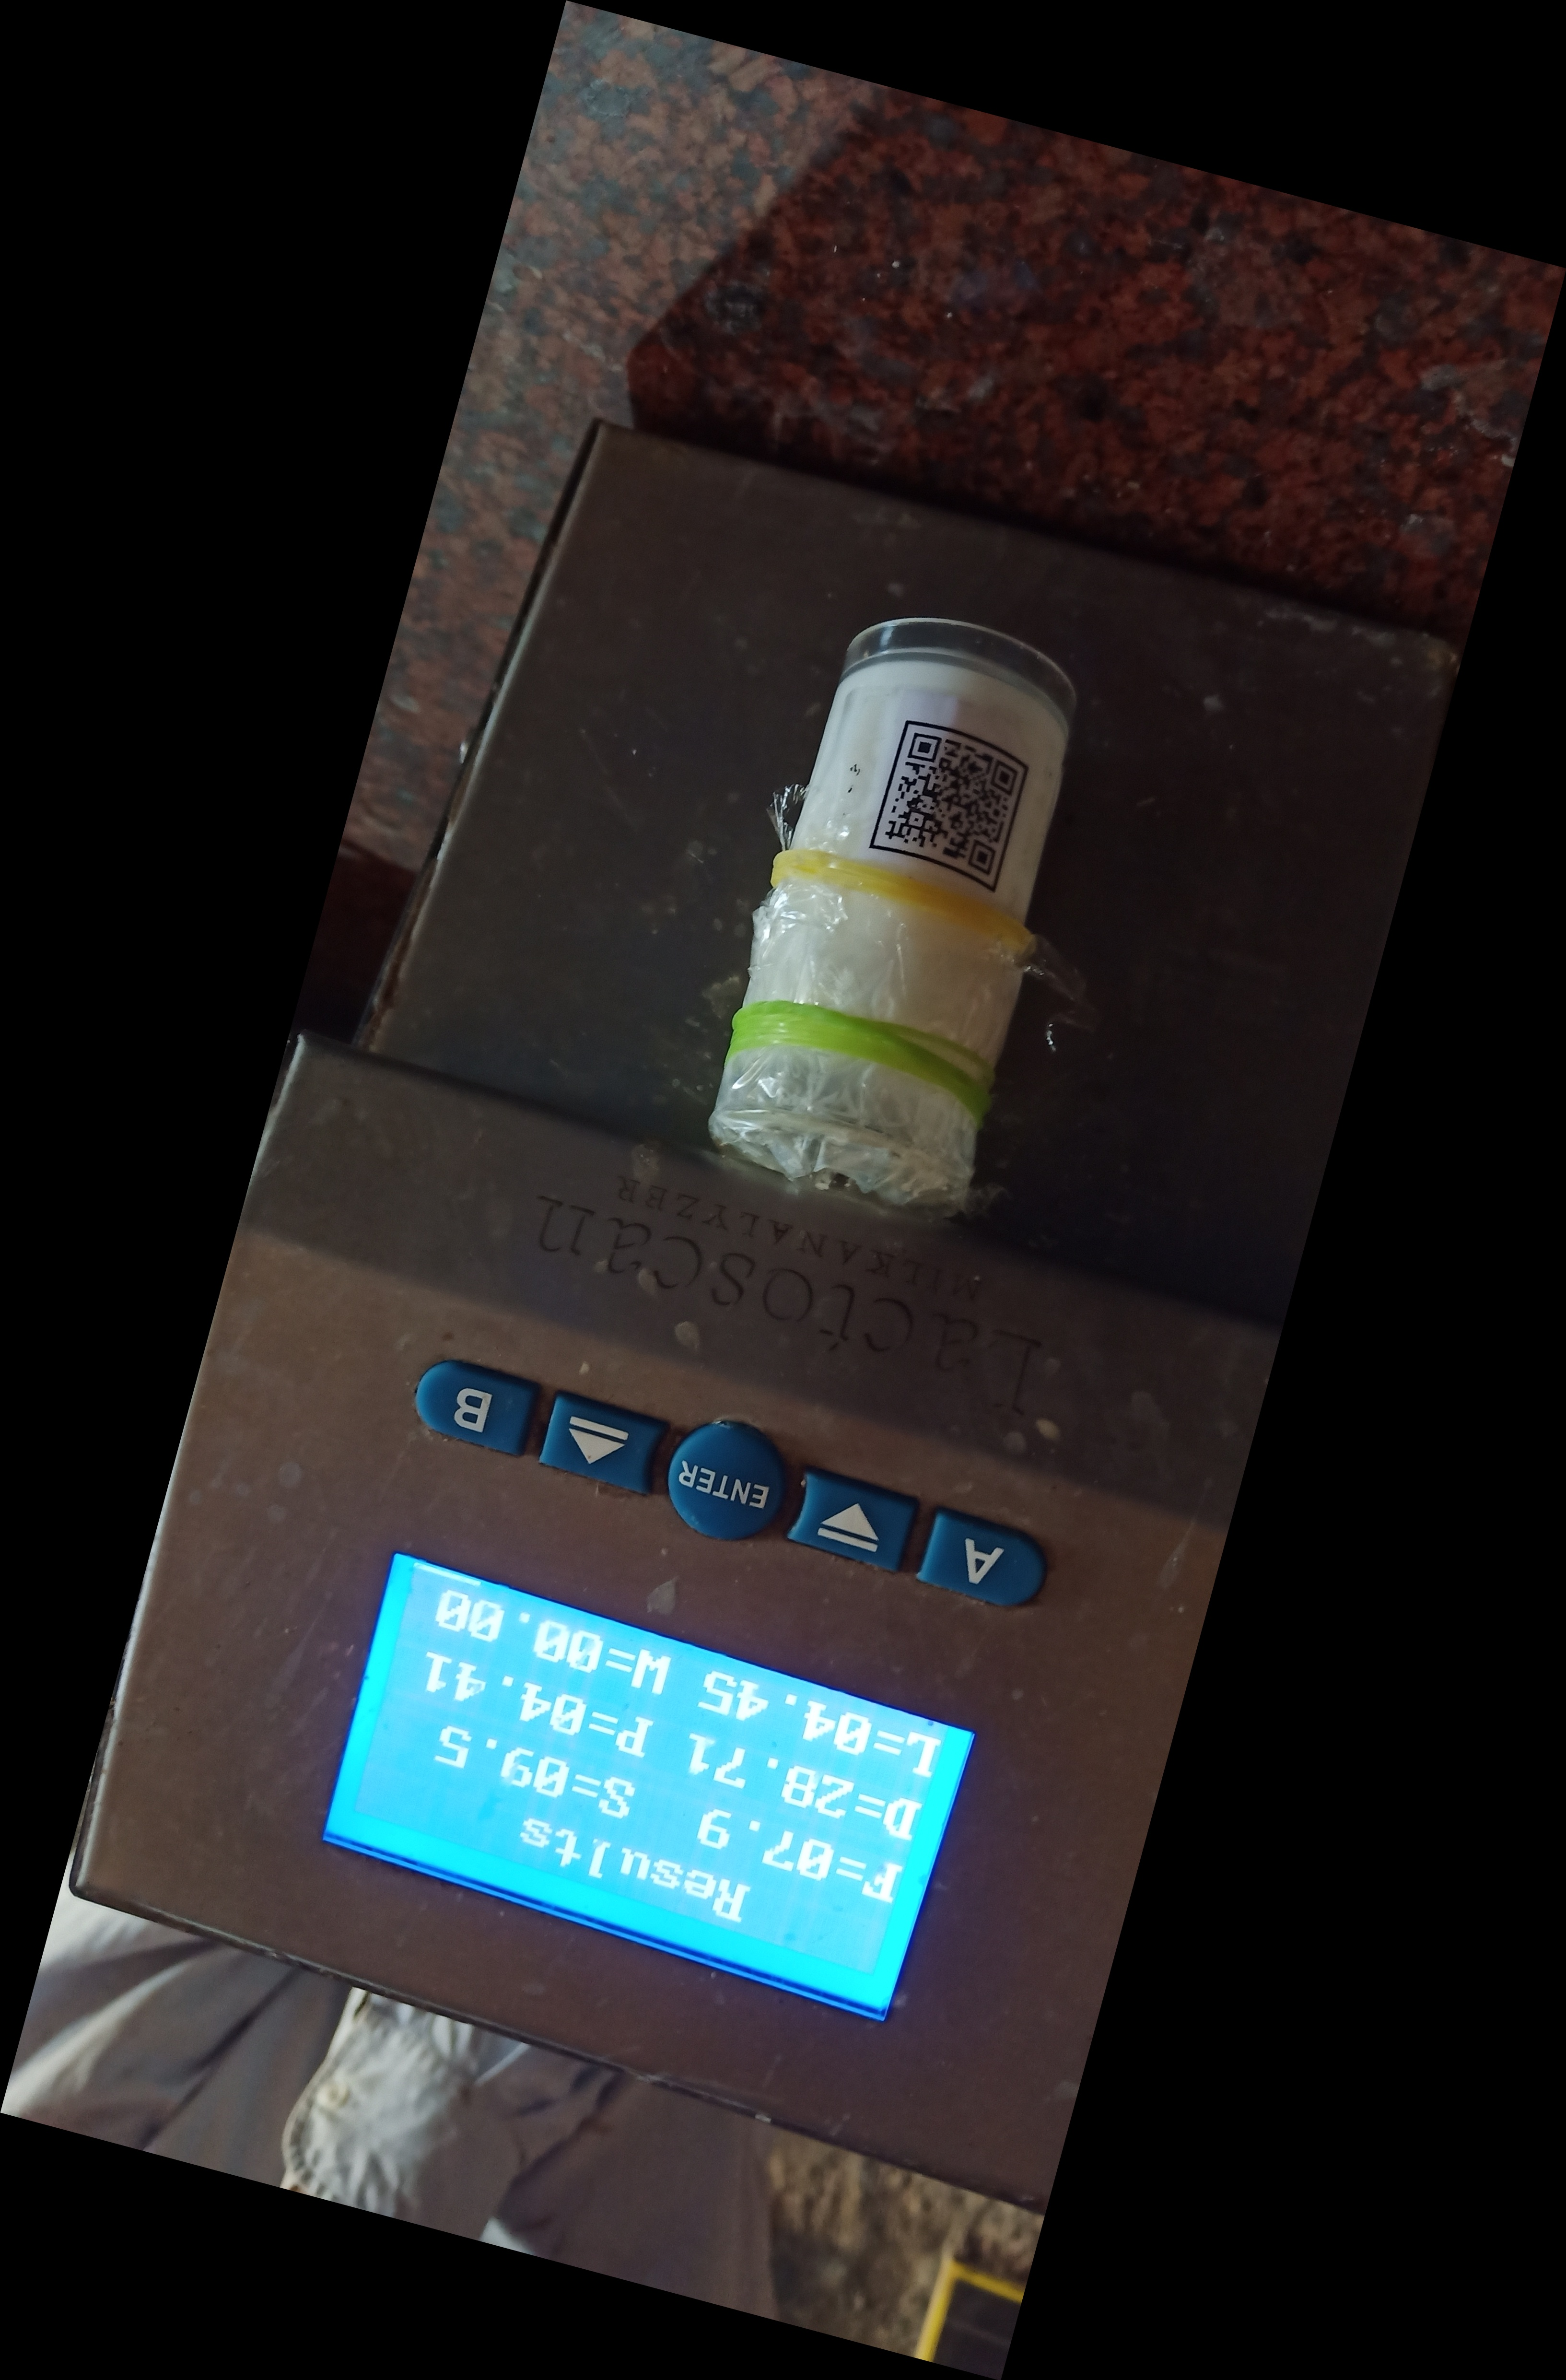lcd: (280, 1526, 1054, 2067)
qr: (858, 706, 1028, 914)
